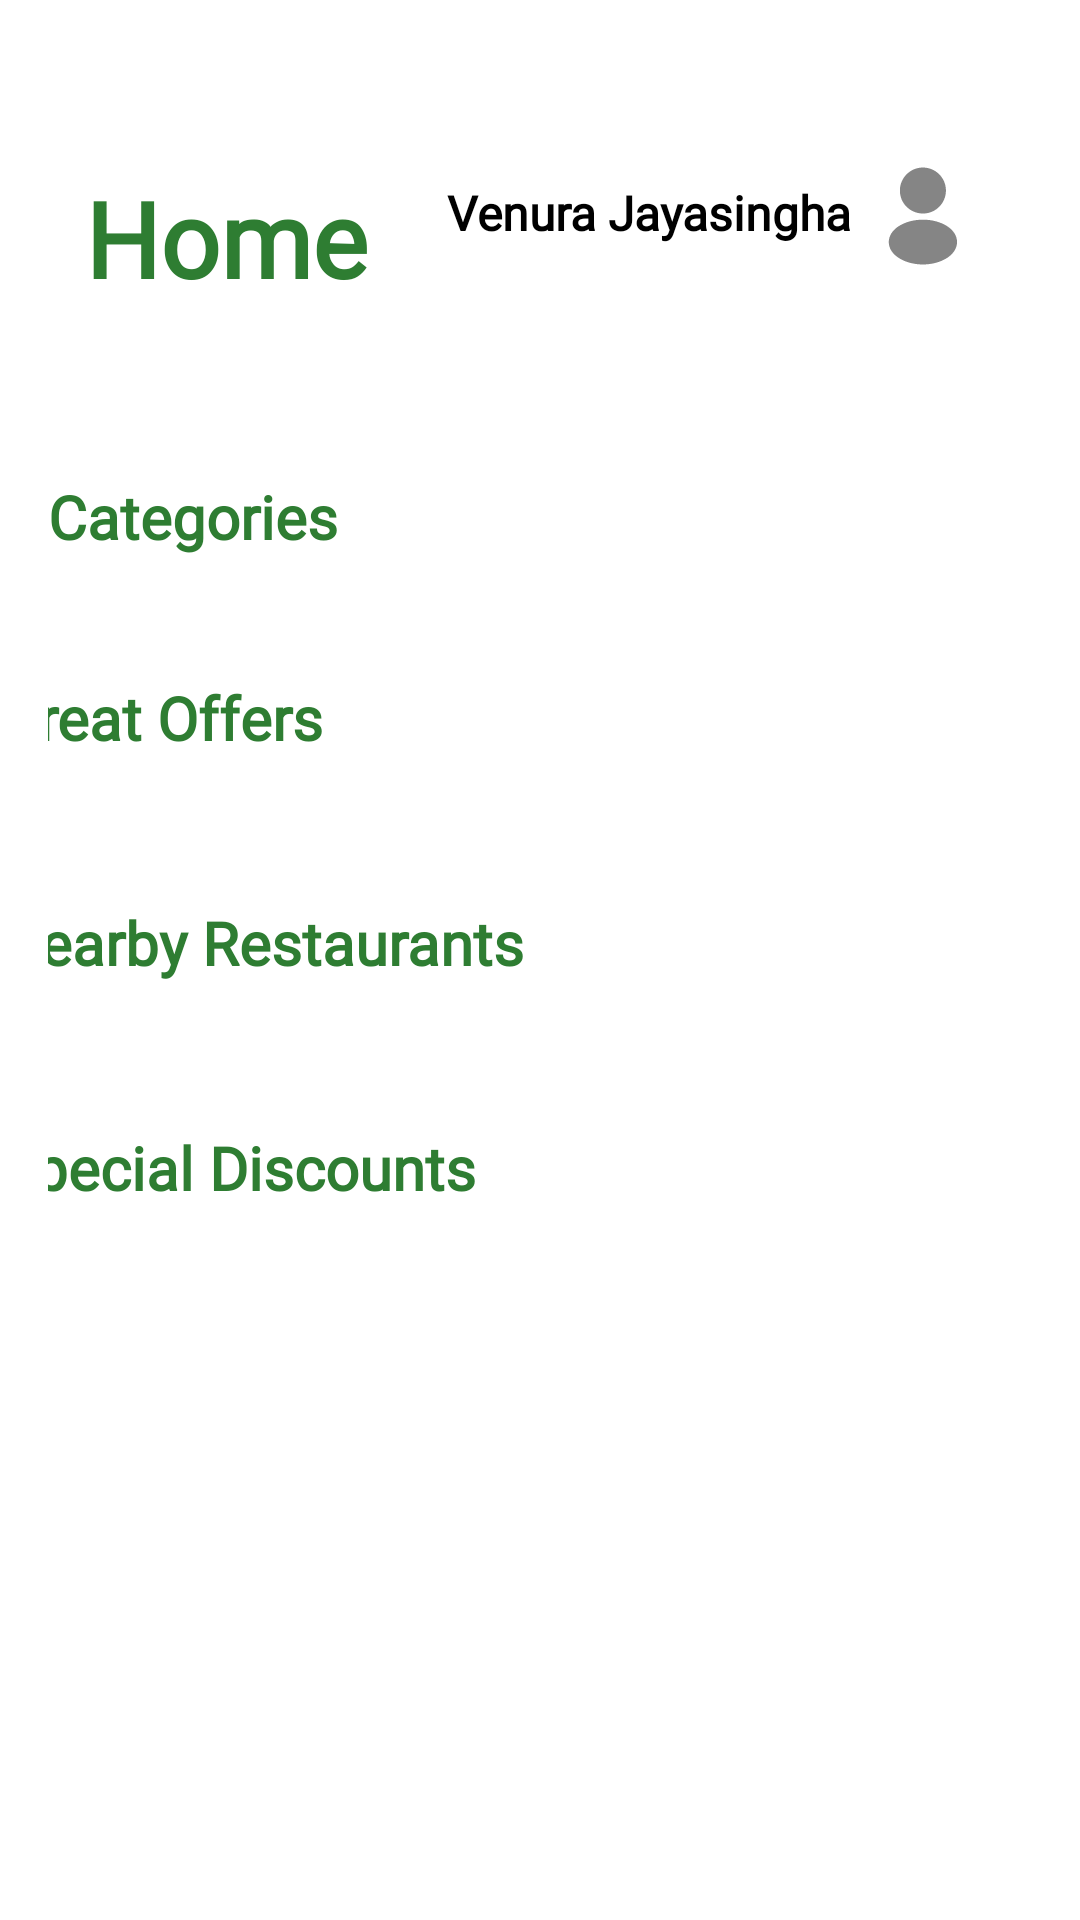

Icon click points for this 1080x1920 phone screenshot, format (x,y):
profile: (922,216)
